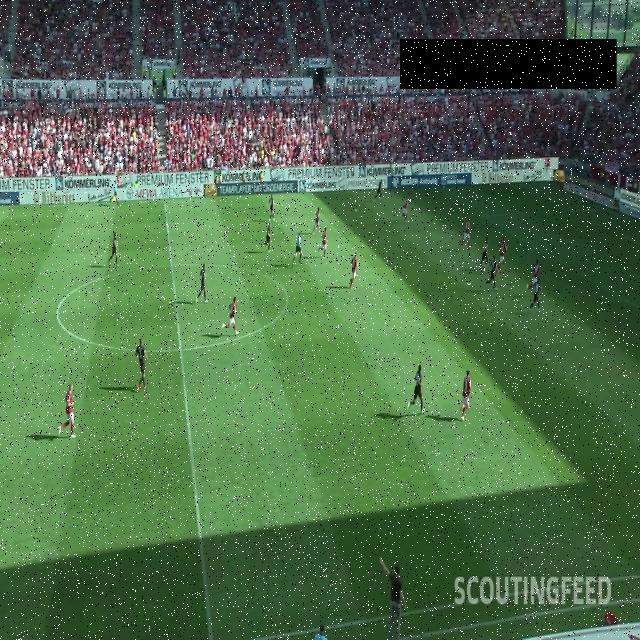Ball: (354, 209, 358, 212)
Referee: (290, 233, 304, 268), (110, 182, 120, 206)
TEAM 1: (60, 383, 75, 438), (223, 296, 238, 333), (460, 372, 471, 422), (526, 256, 541, 292), (347, 252, 359, 289), (459, 220, 472, 250), (497, 236, 508, 268), (319, 227, 328, 256), (312, 207, 320, 234), (401, 198, 410, 220)
TEAM 2: (133, 339, 149, 394), (407, 366, 424, 415), (529, 276, 543, 314), (485, 256, 499, 290), (197, 263, 208, 300), (109, 232, 121, 265), (262, 221, 272, 254), (480, 237, 489, 268), (268, 195, 276, 223), (375, 179, 383, 202)
